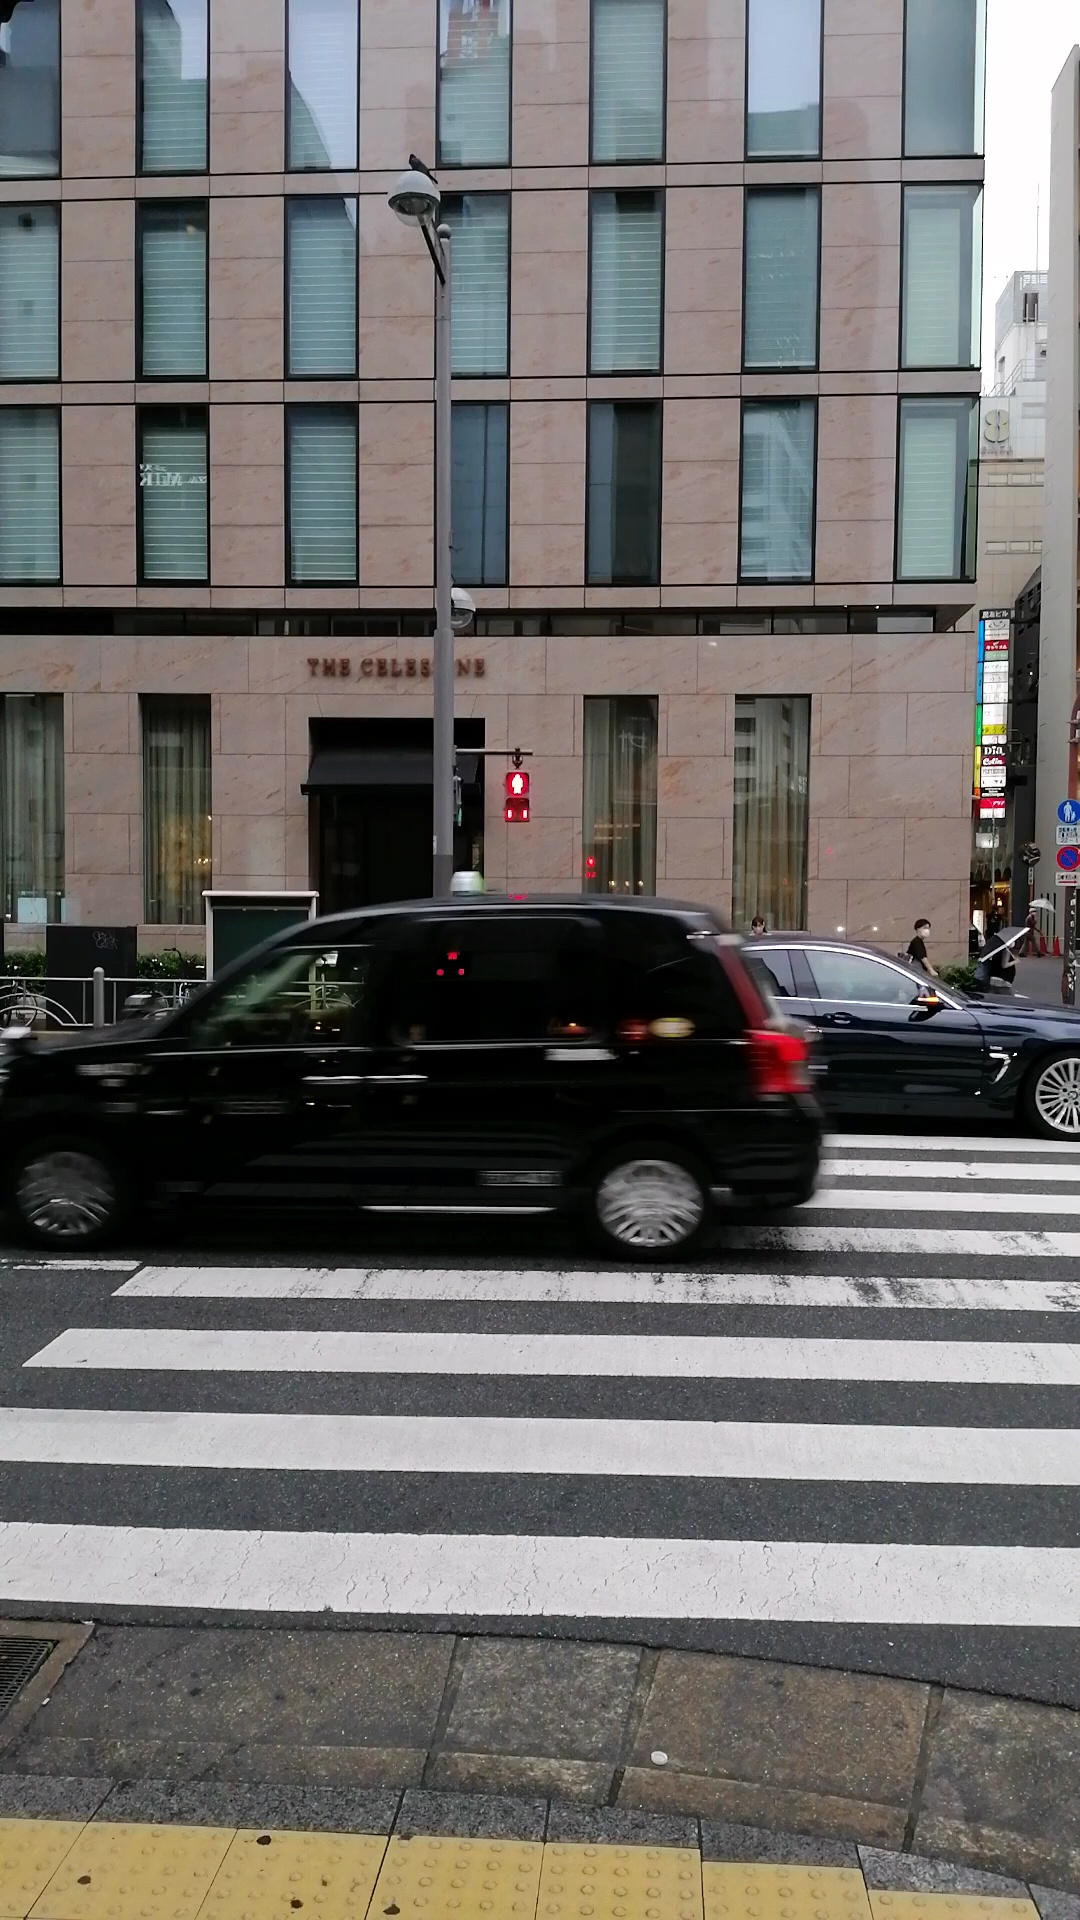red: (500, 766, 534, 825)
